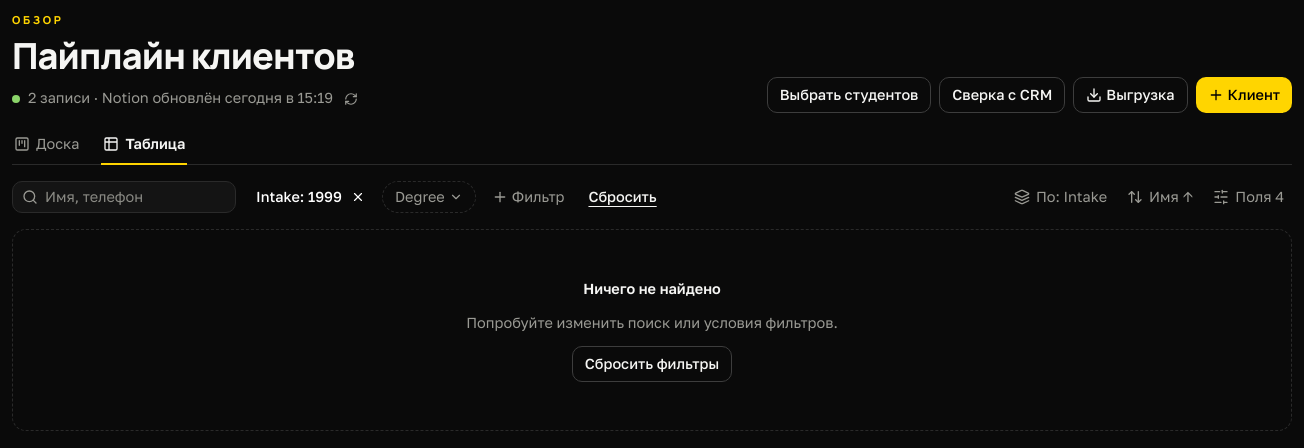
Test case: вид пайплайна › пустой результат — «Ничего не найдено» и сброс фильтров
The image size is (1304, 448).
Expected: the text "Ничего не найдено" is shown, top-left (583, 278), bottom-right (721, 300)
Click the button "Сбросить фильтры". click: (652, 364)
box: top-left (572, 346), bottom-right (732, 382)
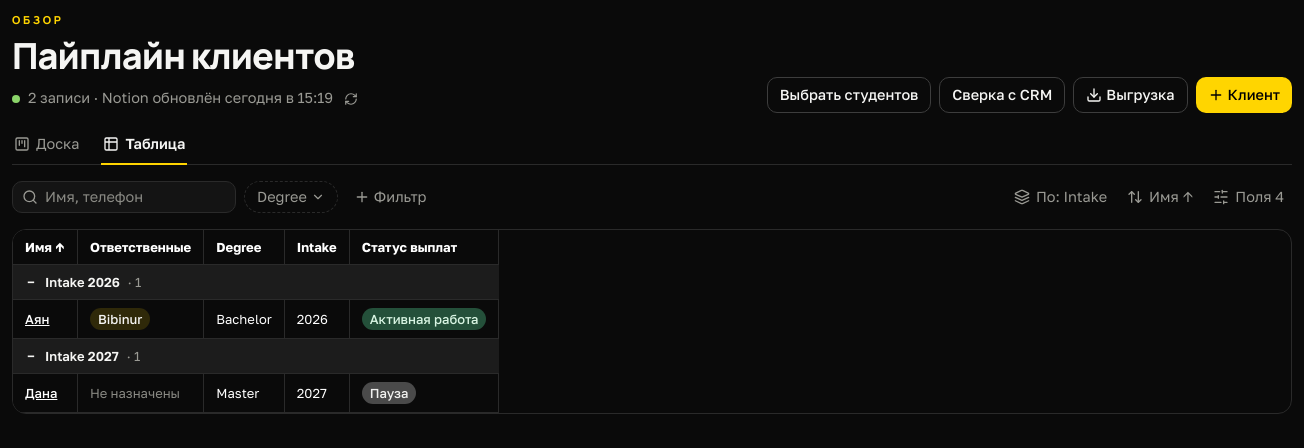
Expected: the table is shown, top-left (13, 230), bottom-right (499, 412)
